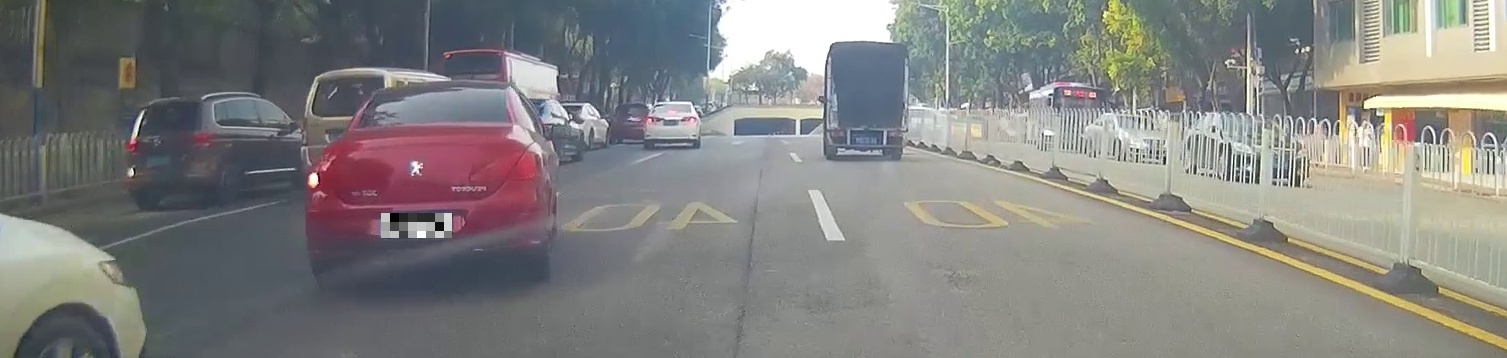L_light: (307, 167, 343, 189), (126, 139, 141, 155), (830, 130, 845, 141), (645, 116, 663, 124)
R_light: (470, 151, 539, 181), (191, 131, 213, 147), (887, 129, 904, 141), (681, 116, 696, 123)
T_light: (440, 81, 465, 88), (855, 124, 877, 128), (165, 101, 184, 104), (668, 110, 677, 112)
day-brake: (643, 101, 699, 149)
day-left: (306, 80, 545, 293)
day-no: (126, 94, 217, 214)
night-no: (824, 40, 909, 160)
plate_1: (381, 213, 452, 238)
